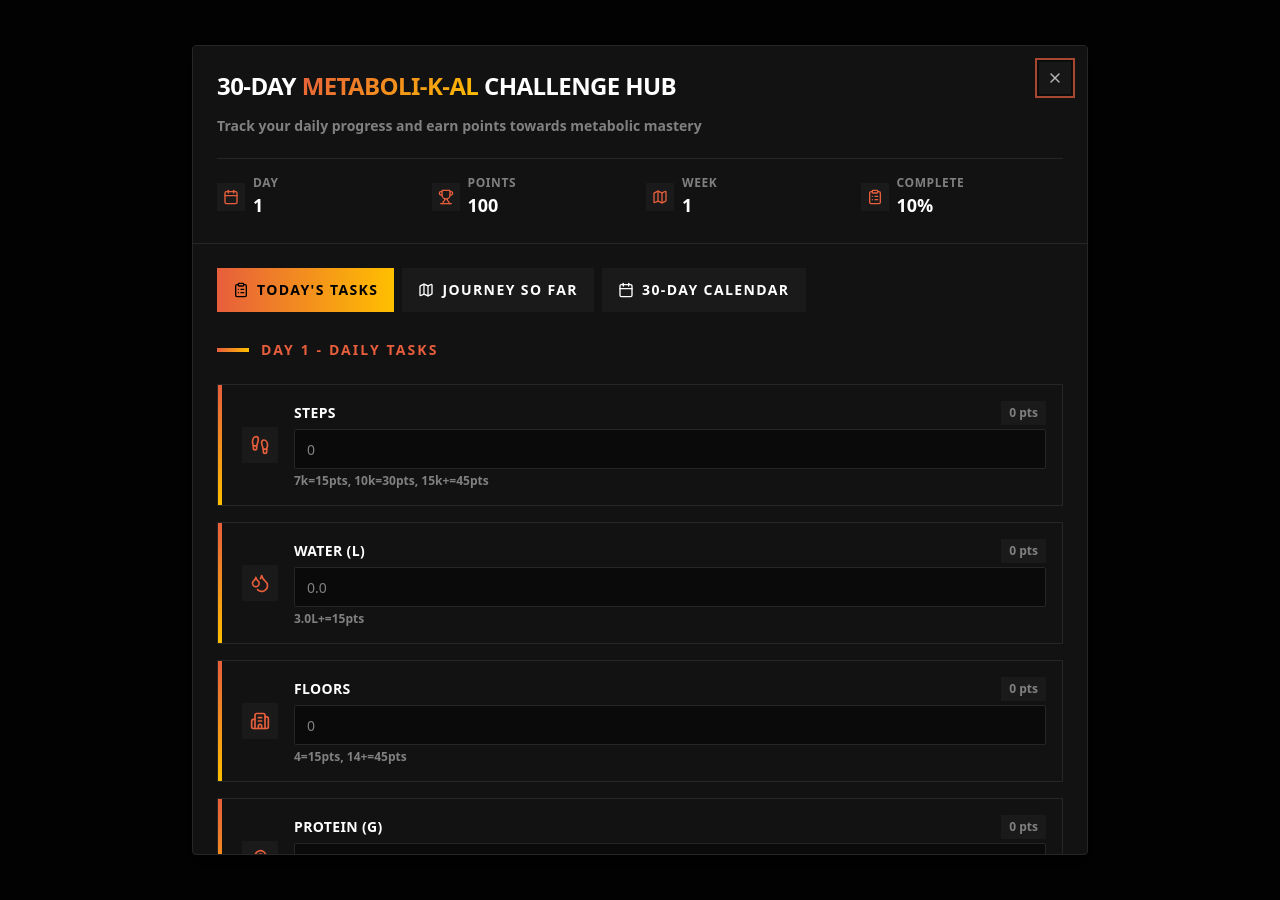
Scenario: ChallengeHubModal › displays new user message in Journey tab when no days completed
Click the button "Journey So Far". click: (498, 290)
box: top-left (402, 268), bottom-right (594, 312)
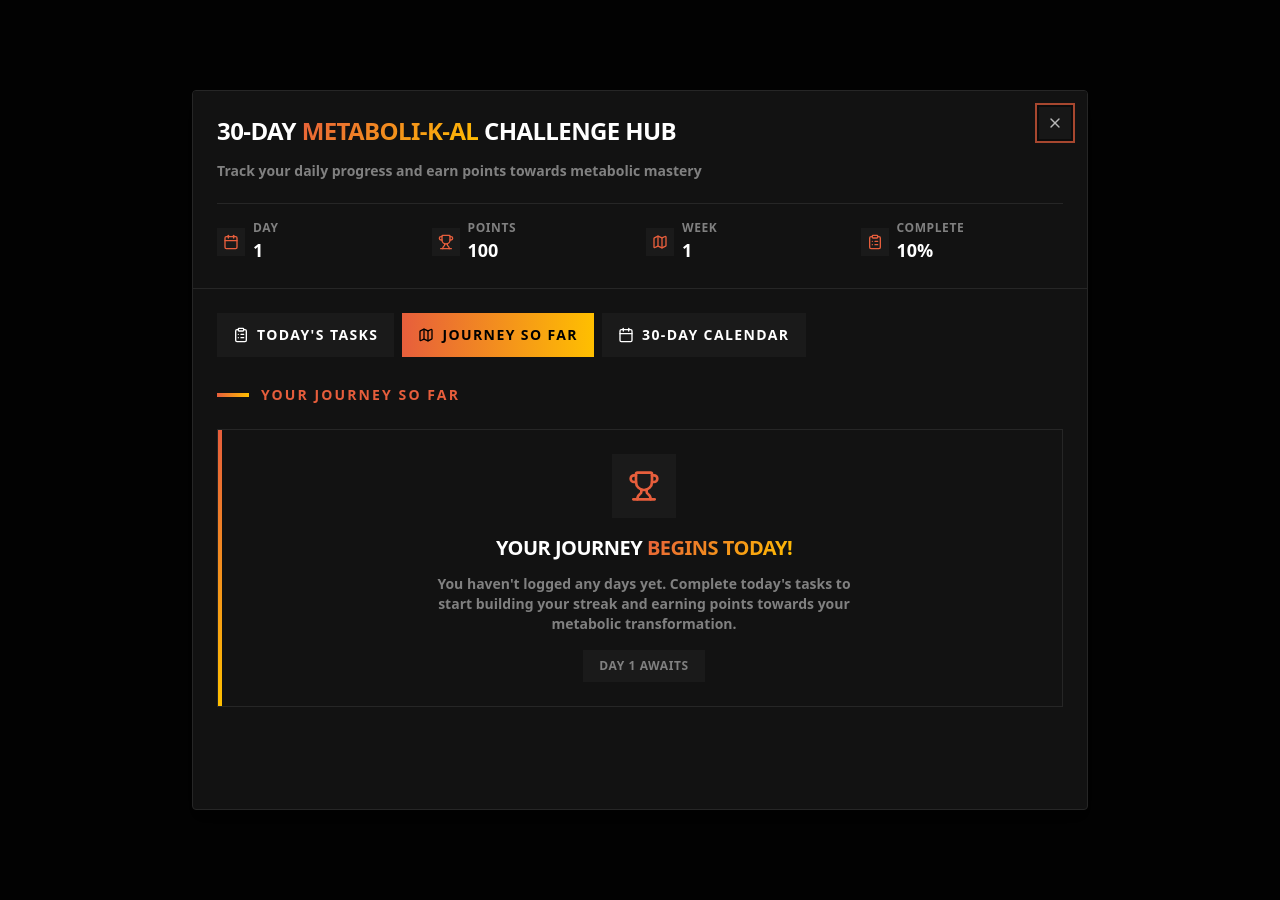
Now the text "Begins Today!" is shown, box top-left (647, 534), bottom-right (792, 561)
